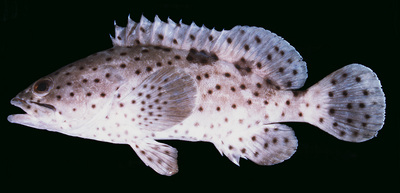fish: (7, 14, 386, 176)
